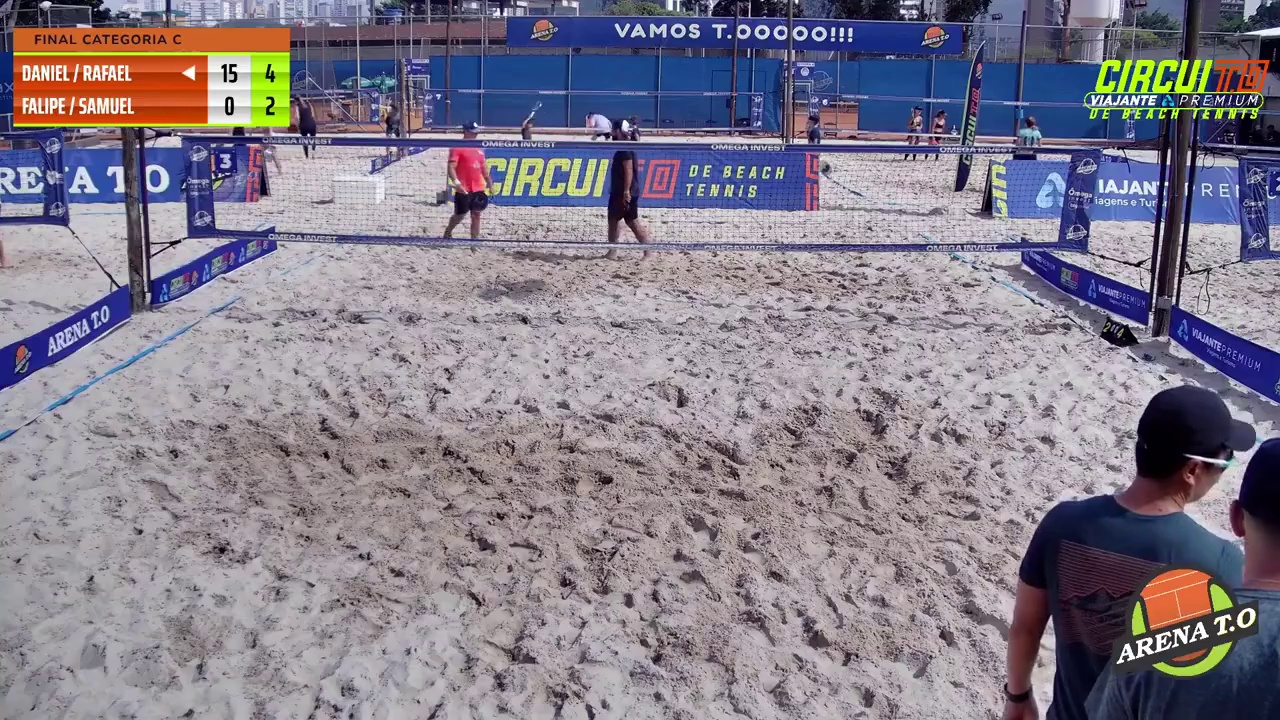court_line: (485, 0, 663, 494), (635, 0, 809, 417), (508, 0, 661, 387)
